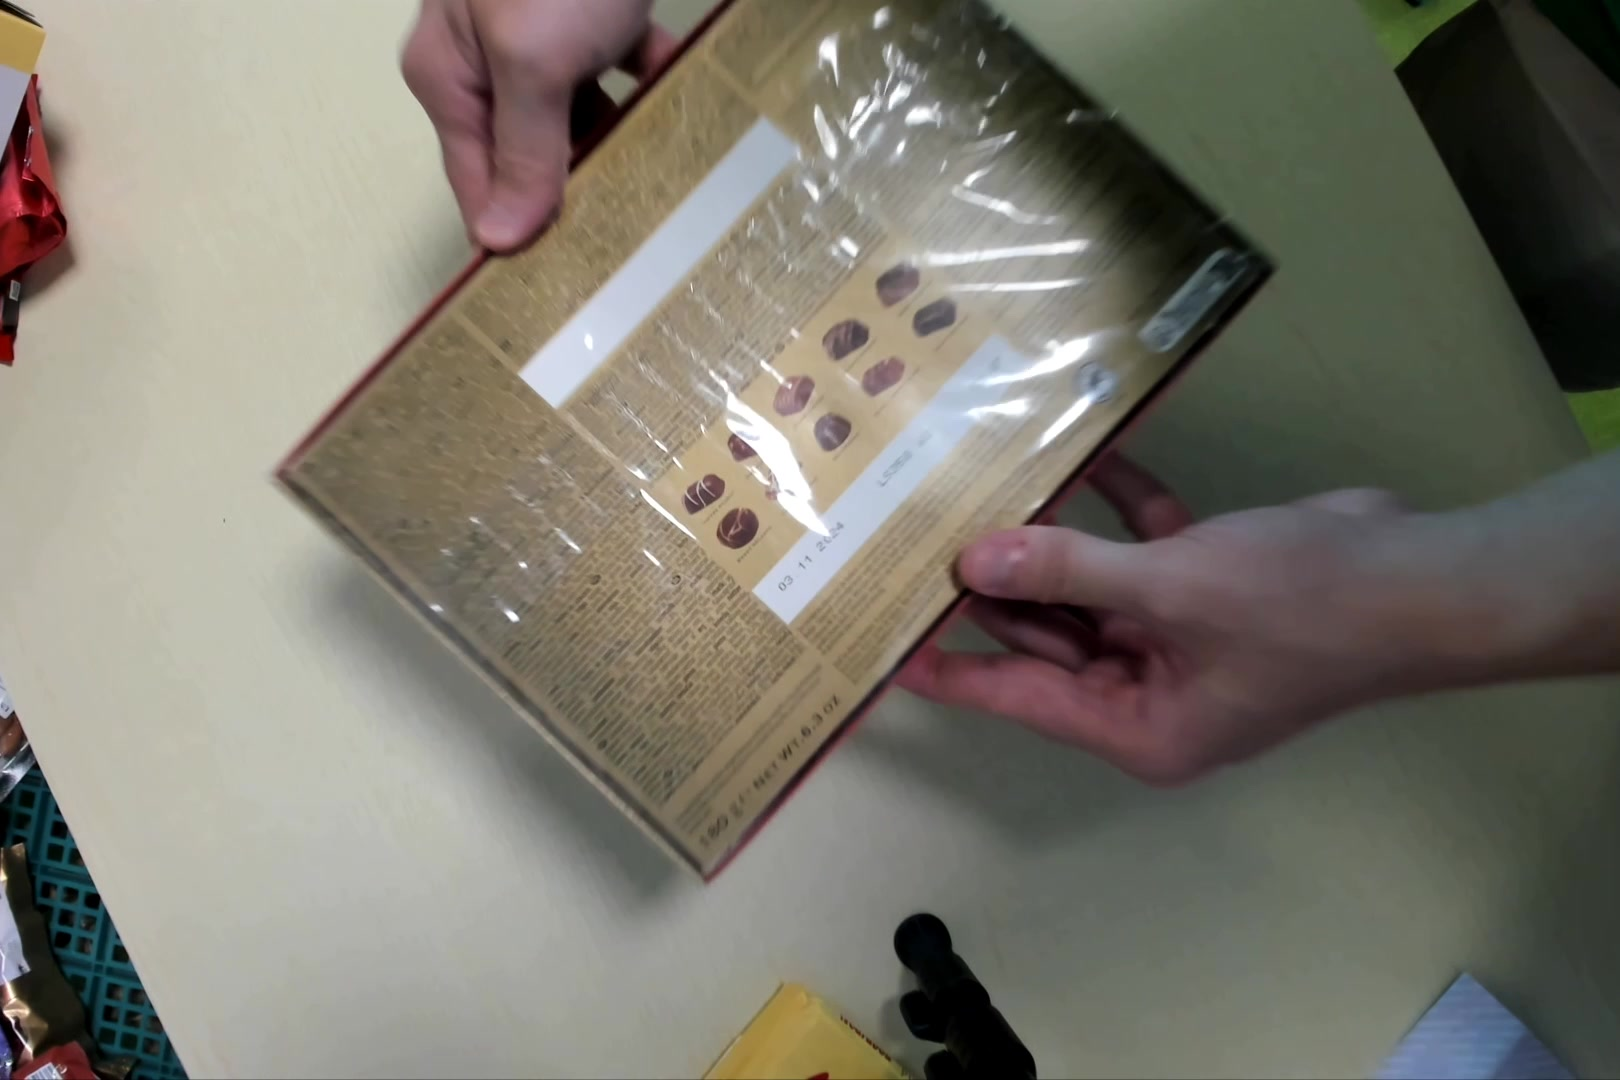SweetsChocolatesOthers_100-199g_NonHalal_NonHealthy: (268, 4, 1281, 886)
